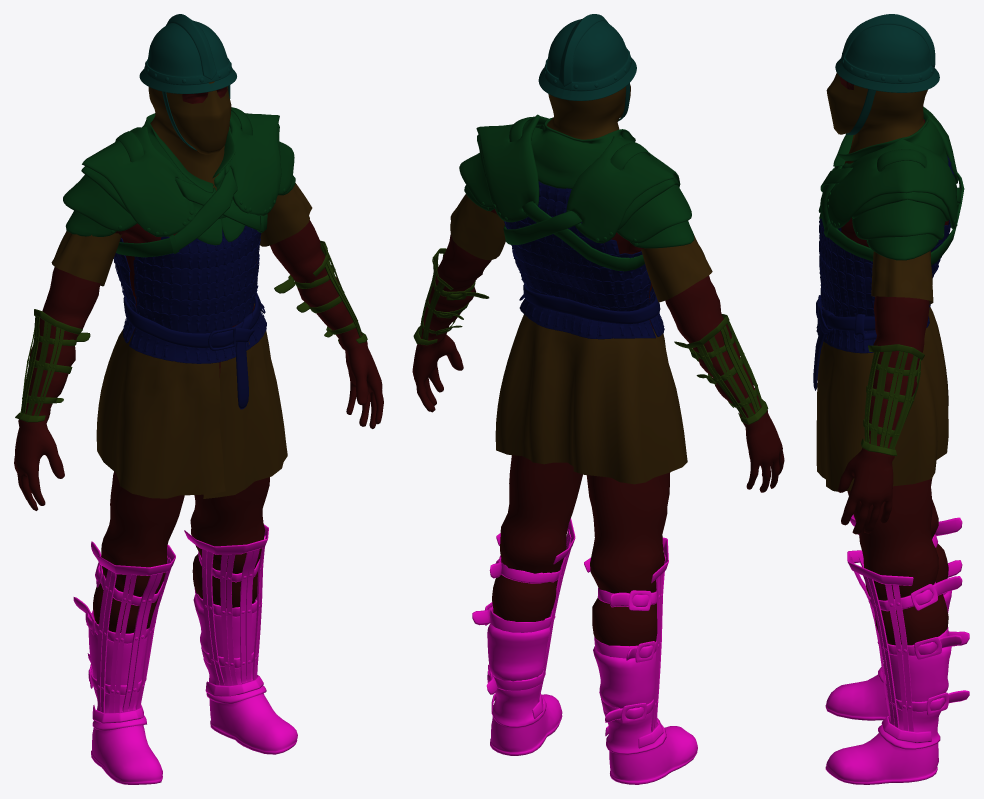
The model's file is Character_Enemy.FBX.
3 views of the same model, side by side, from view 1: azimuth 30°, elevation 25°; view 2: azimuth 150°, elevation 25°; view 3: azimuth 270°, elevation 25° (orthographic).
Parts seen in each view (by area): view 1: Char; view 2: Char; view 3: Char.
Part boxes in pixels (bbox=[...]): Char: bbox=[14, 14, 383, 784]; Char: bbox=[412, 14, 784, 784]; Char: bbox=[813, 14, 969, 784].
Bounding box in the file's own units: 105 × 204 × 39.63.
